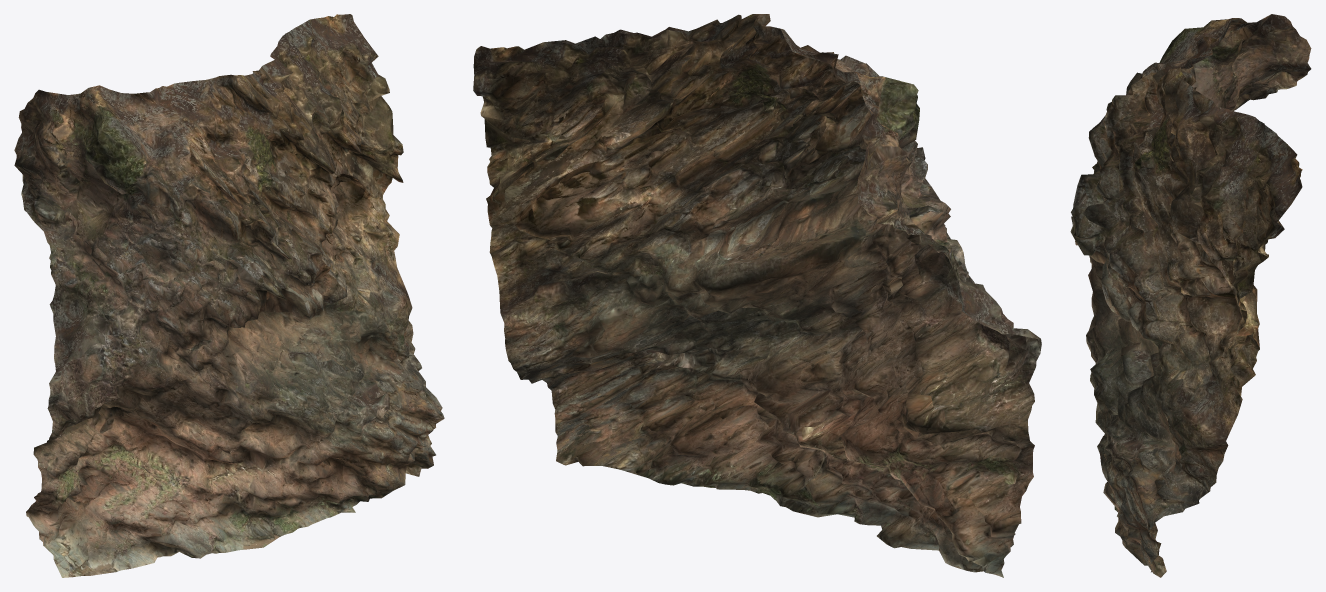
Rendered from mountainside.glb.
The picture shows the model from 3 angles, left to right: view 1: azimuth 30°, elevation 25°; view 2: azimuth 150°, elevation 25°; view 3: azimuth 270°, elevation 25°; orthographic projection. The views are drawn at different scales.
Visible parts, largest first — view 1: Prop; view 2: Prop; view 3: Prop.
Boxes of the visible parts, x1,y1,x2,y2 form: Prop: (14,14,444,577); Prop: (473,14,1041,577); Prop: (1070,14,1311,577).
Size of the model in its own units: 10.21 by 10.51 by 5.24.
1 material, 1 textured.
